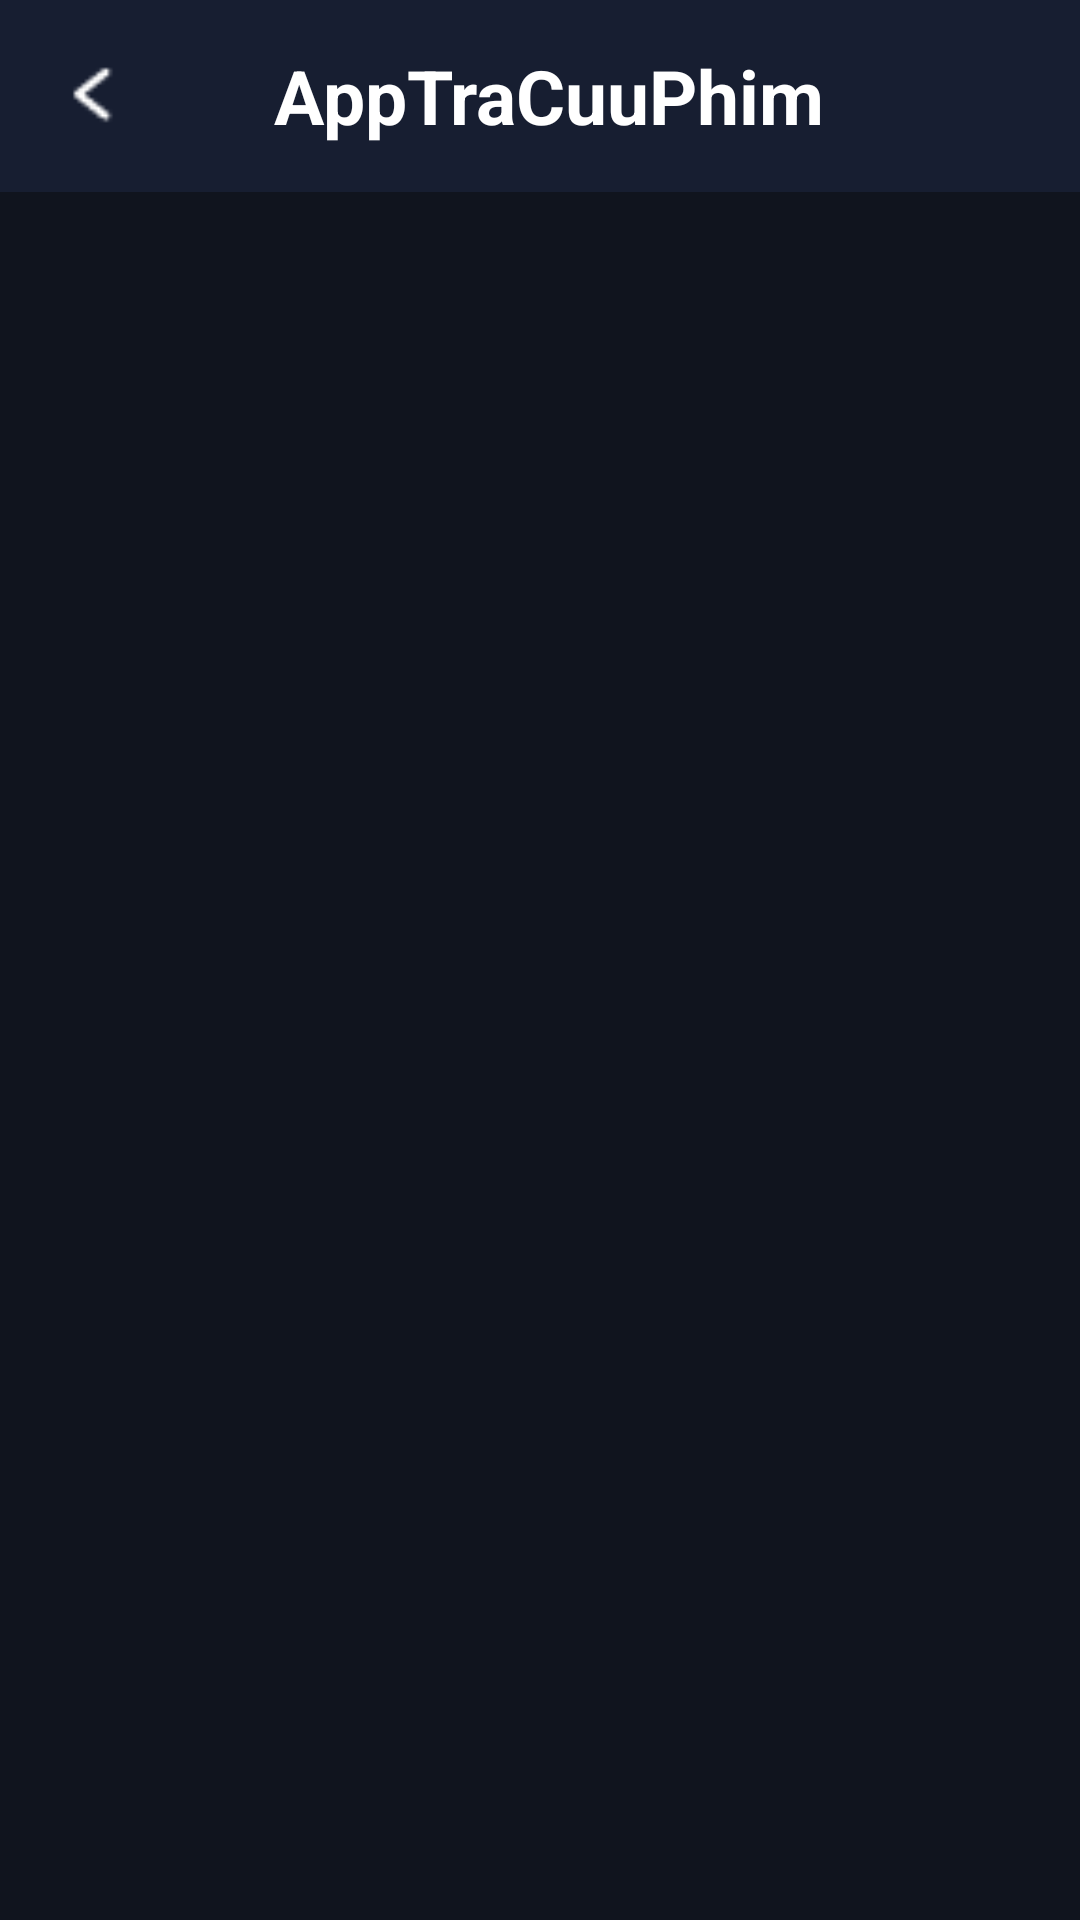

Named icons in this screenshot (1080px x 1920px) and their centers, [x,y]:
arrow left: [92,94]
